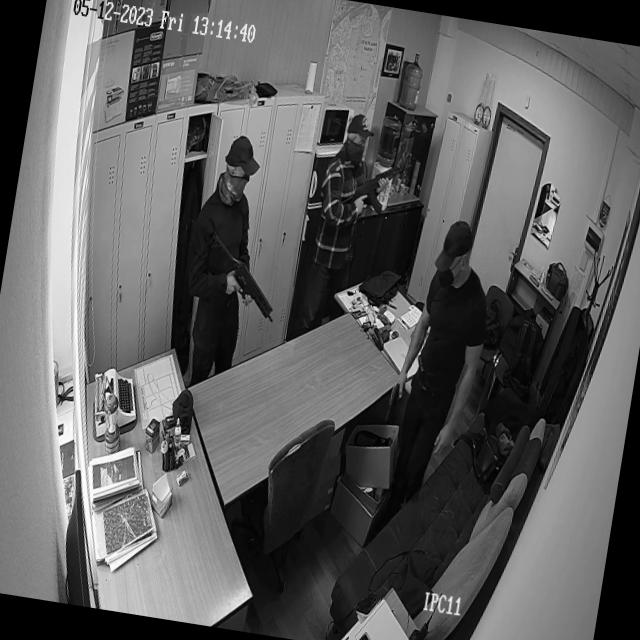gun: (197, 224, 286, 324), (349, 154, 409, 218), (386, 371, 408, 427)
person with a gun: (381, 219, 494, 499), (173, 138, 272, 370), (304, 108, 380, 321)
